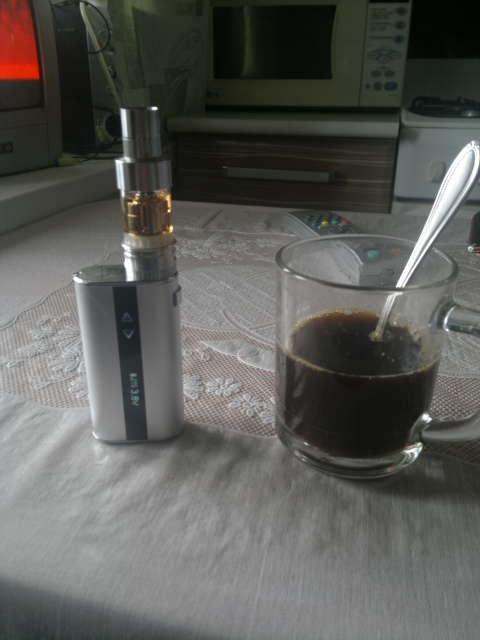Vape: (72, 107, 183, 443)
